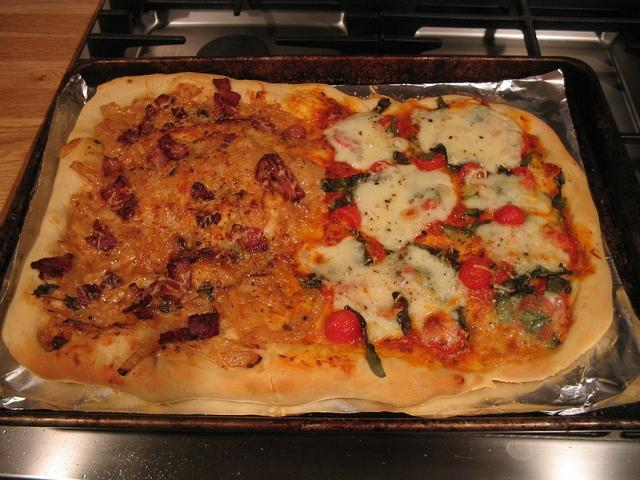tomato: (458, 258, 499, 290), (323, 310, 361, 342), (547, 231, 579, 266), (329, 206, 362, 232), (362, 232, 386, 264), (444, 204, 476, 228), (456, 162, 484, 188), (492, 205, 526, 226), (416, 154, 448, 172), (510, 166, 534, 184), (396, 119, 416, 139), (369, 162, 384, 172)
